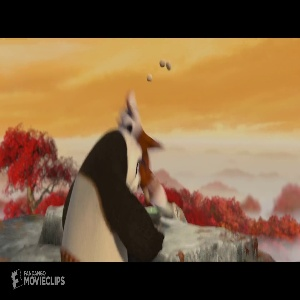po: (58, 128, 165, 261)
shifu: (113, 90, 171, 210)
